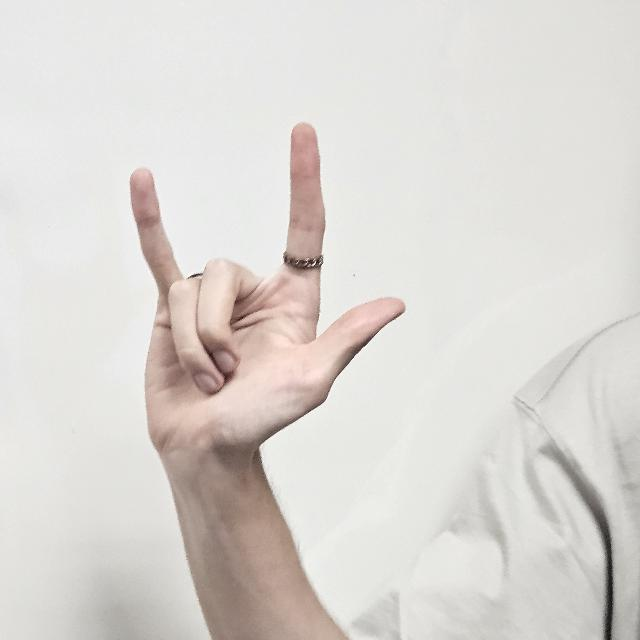Cima: (125, 119, 408, 467)
